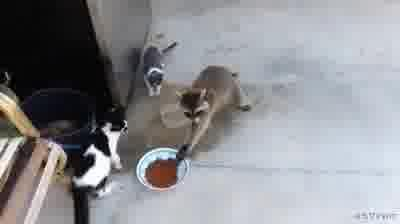raccoon: (172, 64, 251, 163)
